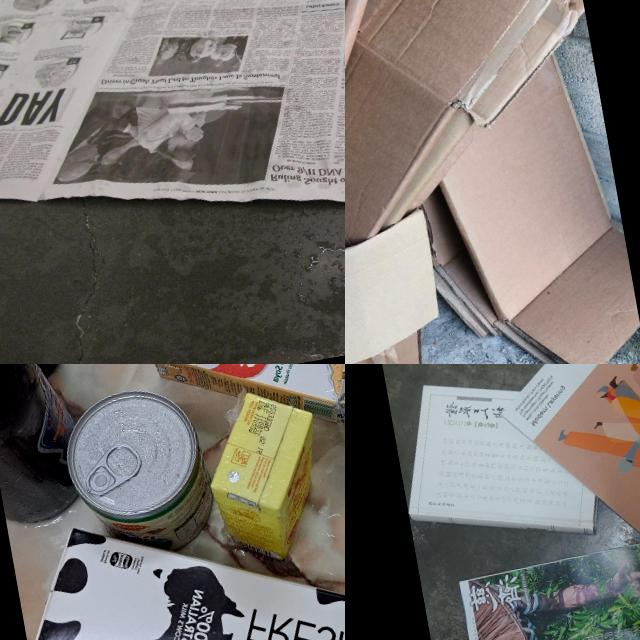aba de lata: (78, 432, 150, 502)
caixinha: (8, 464, 345, 640), (202, 380, 334, 566), (139, 364, 345, 438)
garrafa de vidro: (0, 364, 89, 527)
lata: (57, 377, 216, 570)
papel: (0, 0, 345, 280), (386, 364, 605, 561), (492, 364, 640, 592), (451, 532, 640, 640)
papelão: (368, 0, 640, 364), (345, 0, 620, 293), (345, 206, 470, 364)
